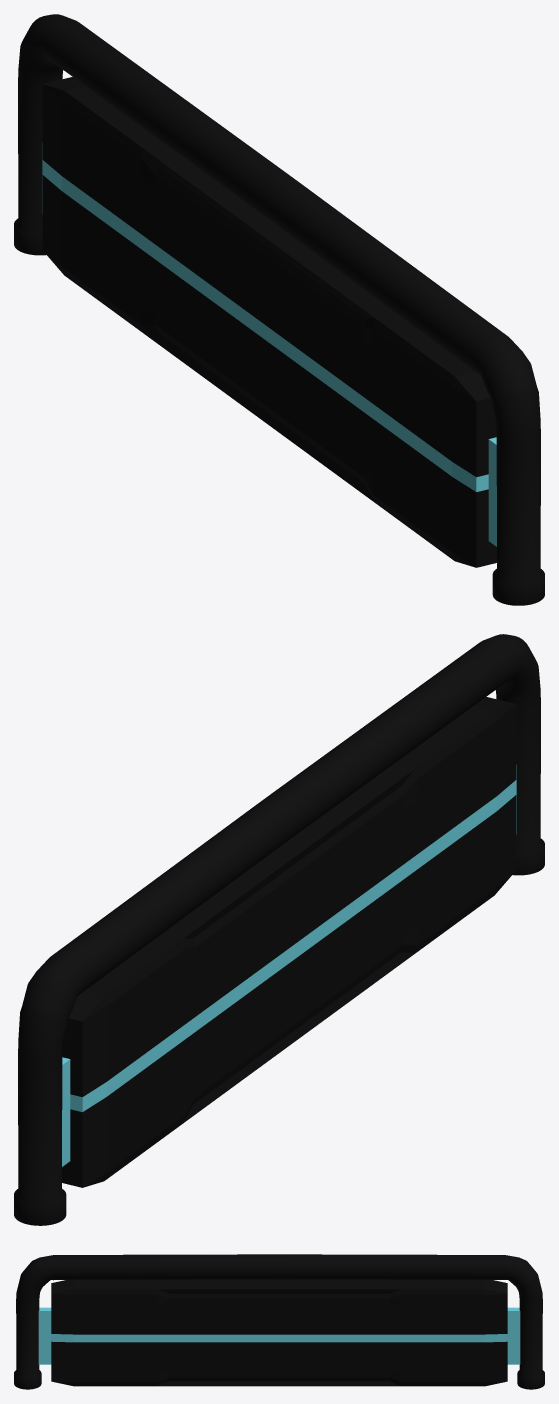
File: Fence_1.fbx
The picture shows the model from 3 angles, top to bottom: view 1: azimuth 30°, elevation 25°; view 2: azimuth 150°, elevation 25°; view 3: azimuth 270°, elevation 25°; orthographic projection. The views are drawn at different scales.
Parts seen in each view (by area): view 1: Cylinder.011; view 2: Cylinder.011; view 3: Cylinder.011.
Part boxes in pixels (x1,y1,x2,y2): Cylinder.011: (14,14,544,605); Cylinder.011: (14,634,544,1225); Cylinder.011: (14,1254,544,1389).
Size of the model in its own units: 51.65 by 251 by 942.
